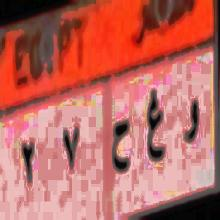2: (16, 130, 44, 195)
7: (60, 120, 81, 176)
7aa: (108, 106, 134, 180)
ghayn: (140, 80, 167, 170)
waw: (180, 93, 202, 154)
